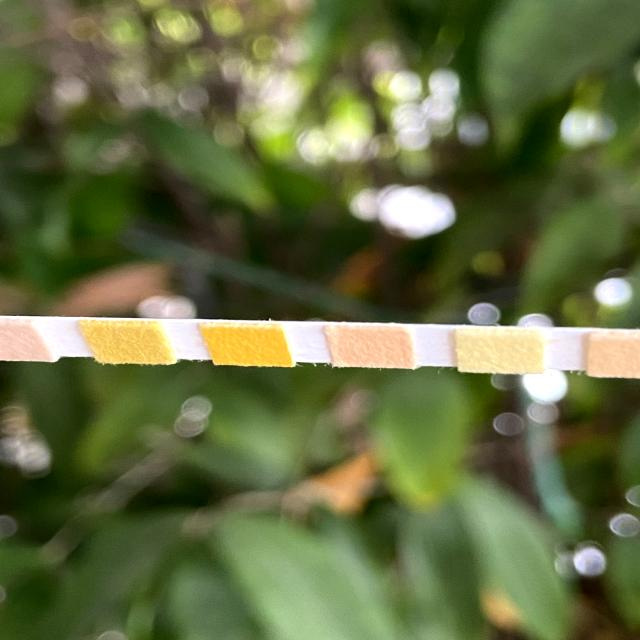Blood: (219, 331, 275, 361)
Ketone: (0, 328, 33, 356)
Protein: (469, 333, 533, 367)
SpGravity: (101, 331, 157, 359)
Urobilinogen: (600, 340, 640, 372)
pH: (340, 330, 402, 364)
